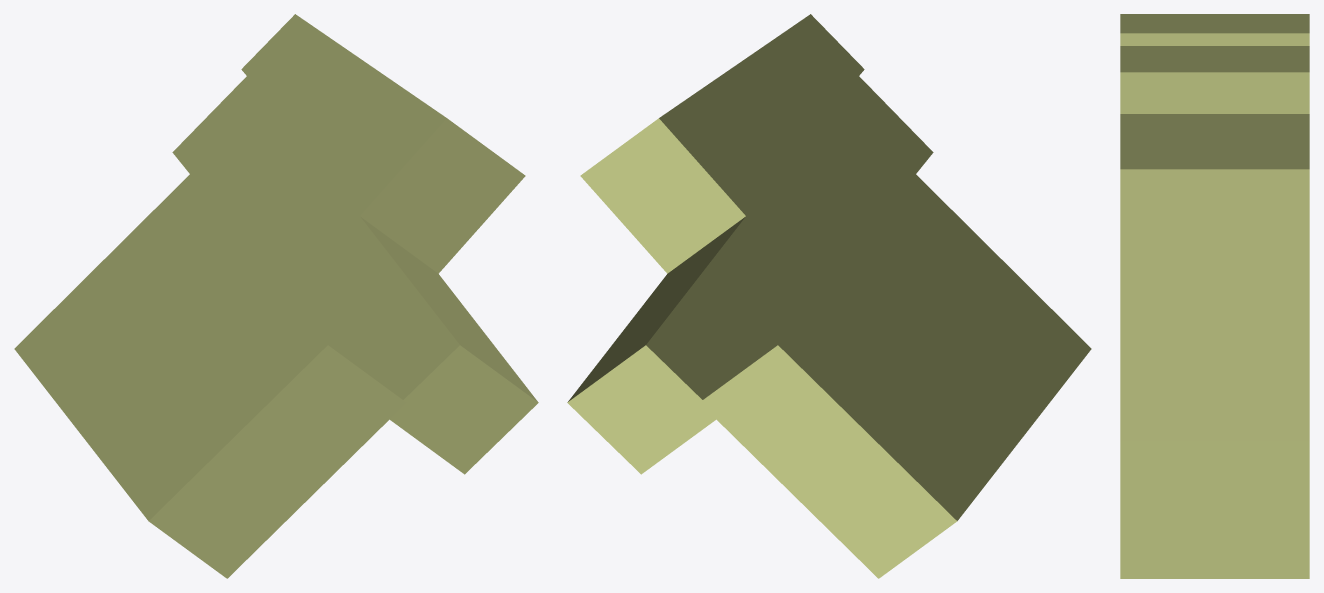
3 renders of one model, left to right at view 1: azimuth 30°, elevation 25°; view 2: azimuth 150°, elevation 25°; view 3: azimuth 270°, elevation 25°, orthographic. The views are drawn at different scales.
Parts seen in each view (by area): view 1: 0_1_0_0_1_0_0_1_3_3; view 2: 0_1_0_0_1_0_0_1_3_3; view 3: 0_1_0_0_1_0_0_1_3_3.
Boxes of the visible parts, bbox=[...] form: 0_1_0_0_1_0_0_1_3_3: bbox=[14, 14, 538, 578]; 0_1_0_0_1_0_0_1_3_3: bbox=[567, 14, 1091, 578]; 0_1_0_0_1_0_0_1_3_3: bbox=[1120, 14, 1309, 578].
Bounding box in the file's own units: 19.62 × 19.83 × 6.
